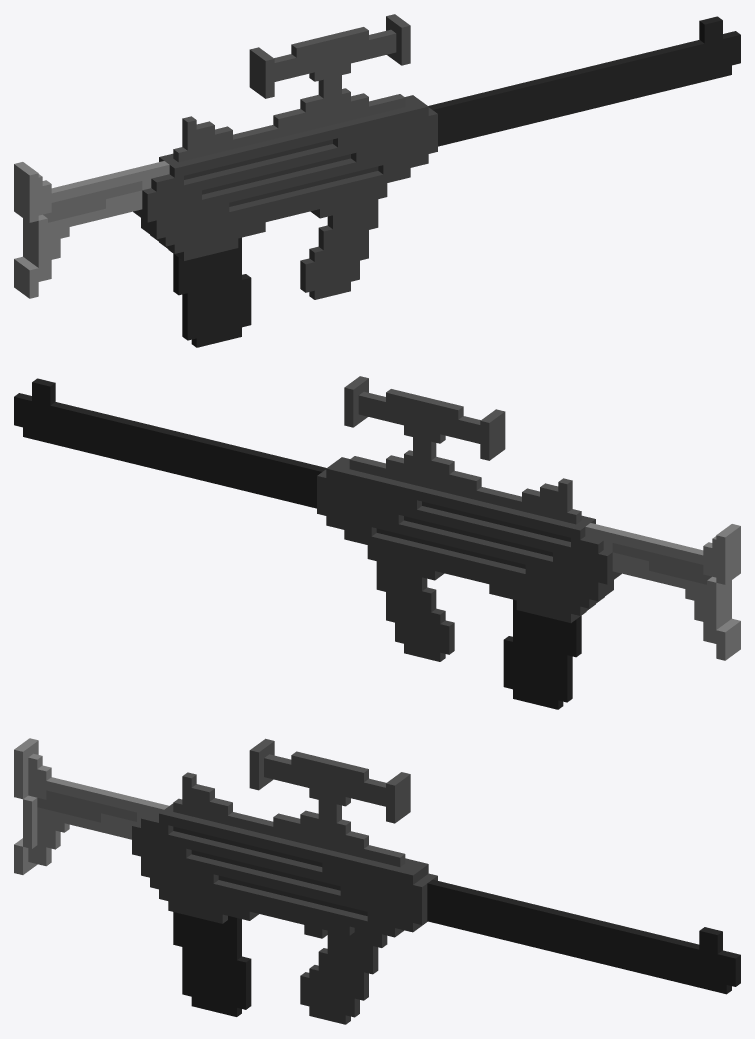
File: m92-block.obj
3 views of the same model, one above another, from view 1: azimuth 30°, elevation 25°; view 2: azimuth 150°, elevation 25°; view 3: azimuth 330°, elevation 25° (orthographic).
Parts seen in each view (by area): view 1: m92-block; view 2: m92-block; view 3: m92-block.
Boxes of the visible parts, <box> form: m92-block: <box>14,14,740,347</box>; m92-block: <box>14,376,740,709</box>; m92-block: <box>14,738,740,1024</box>.
Size of the model in its own units: 79 by 29 by 3.
1 material, 1 textured.
